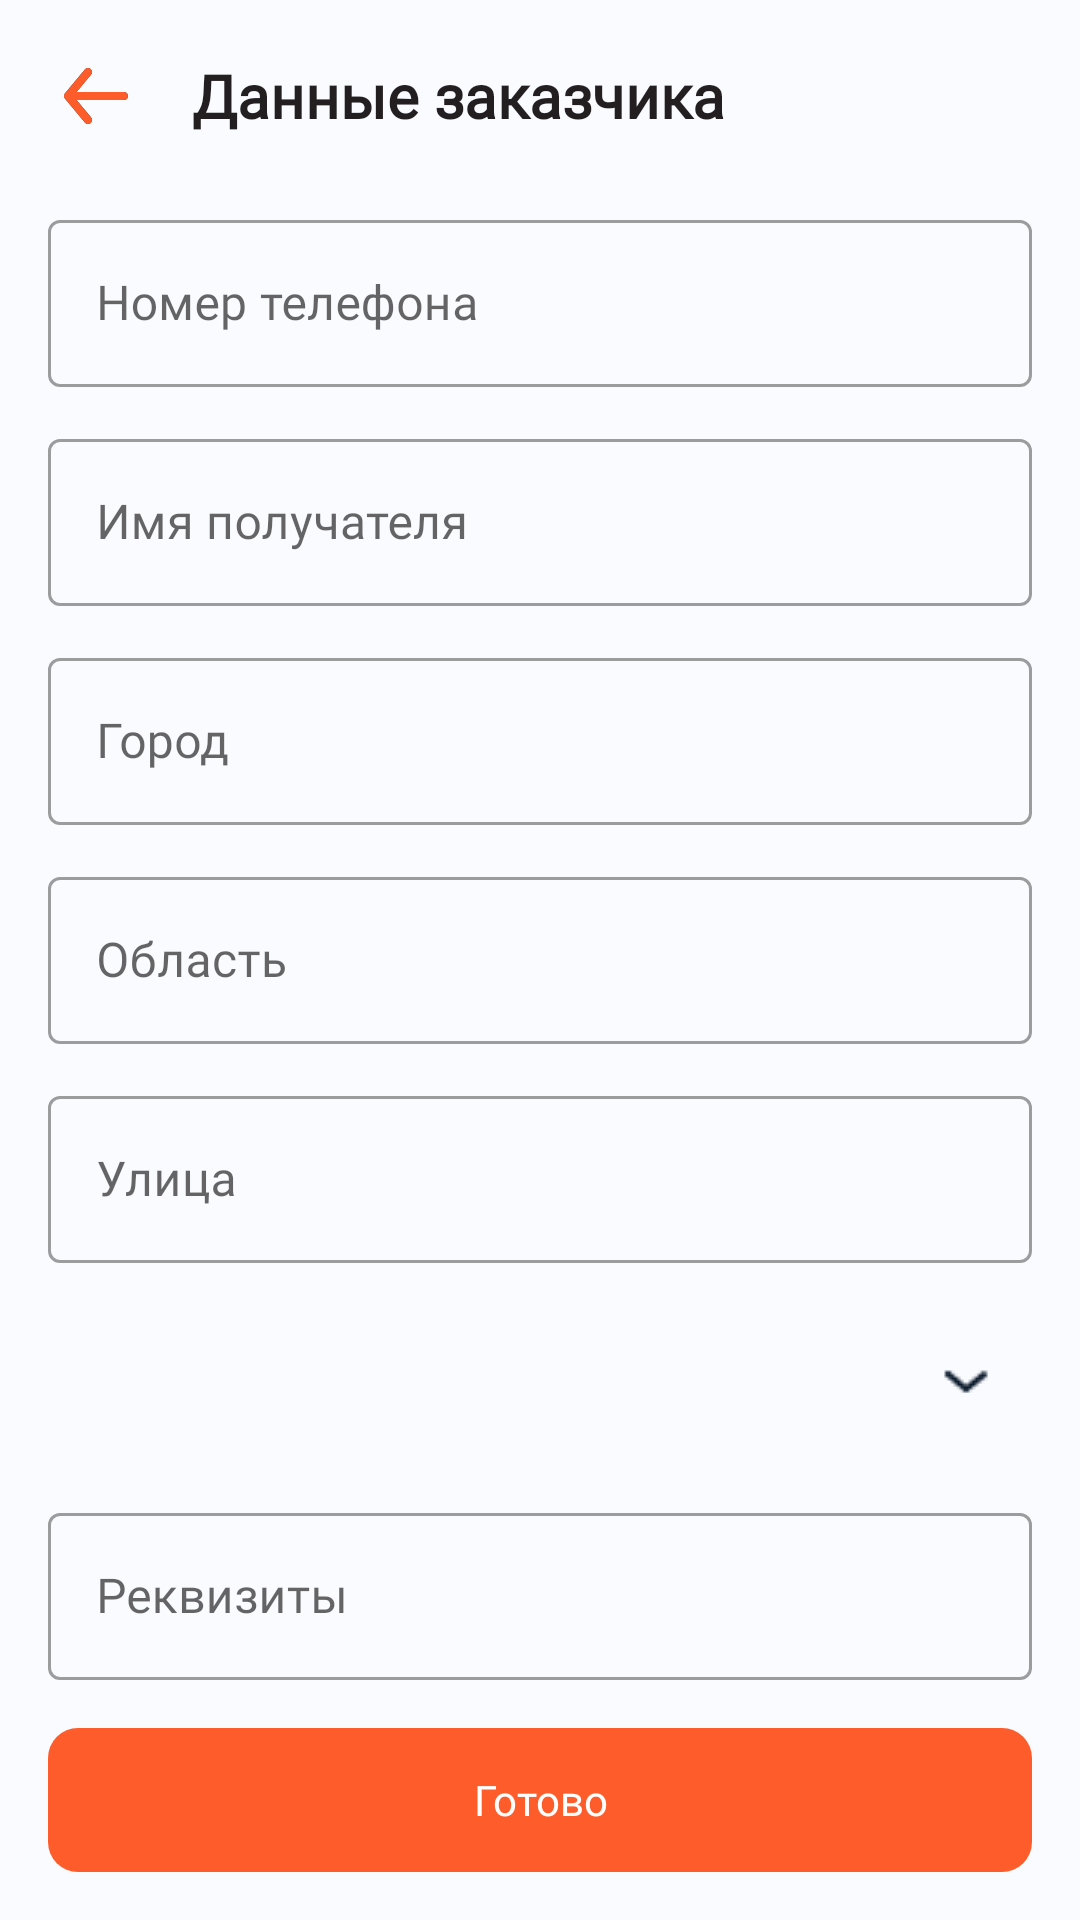

Icon click points for this 1080 x 1920 phone screenshot, format (x=x, y=y):
arrow left: (x=96, y=96)
